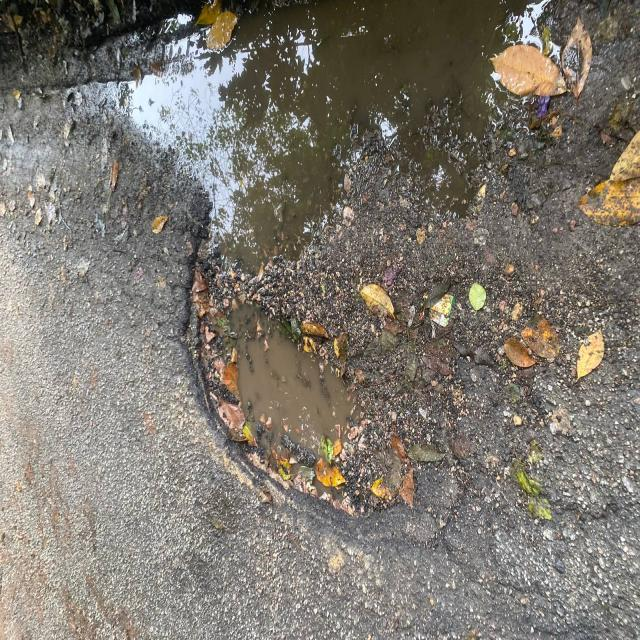Pothole: (133, 172, 526, 611)
